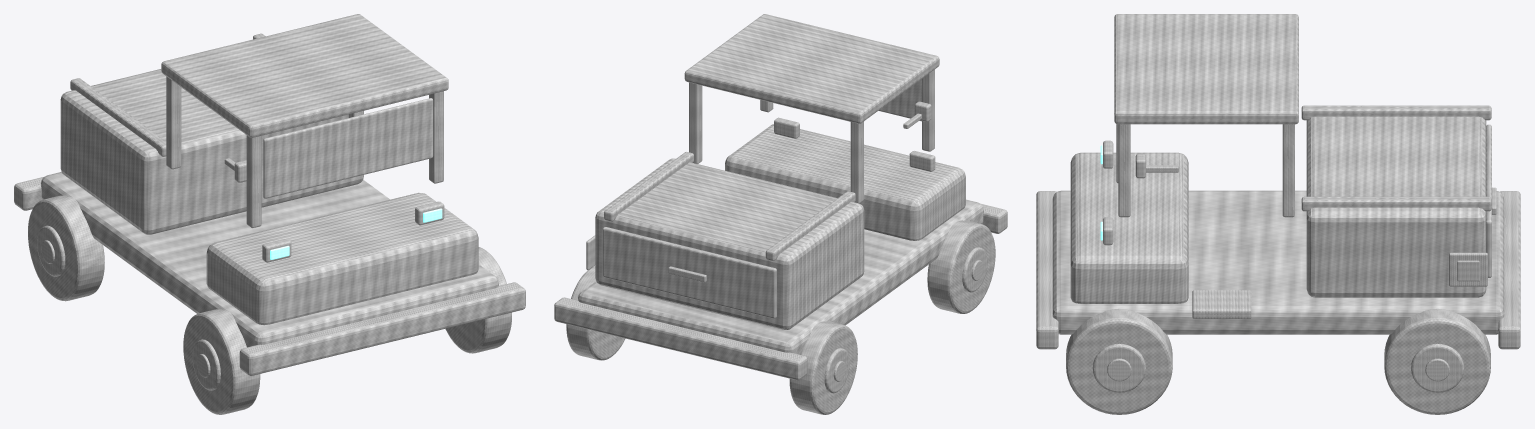
The model's file is tractor_variant_c.glb.
The picture shows the model from 3 angles, left to right: view 1: azimuth 30°, elevation 25°; view 2: azimuth 150°, elevation 25°; view 3: azimuth 270°, elevation 25°; orthographic projection. The views are drawn at different scales.
Parts seen in each view (by area): view 1: Lower engine cover.002, Rear cargo body.002, Cabin roof frame, Ladder chassis.002, Windshield panel, Front bumper.002, All-terrain tire.010, All-terrain tire.009, All-terrain tire.011, Cargo side rail.005, Cabin support post.001, Cabin support post.002 (+4 smaller); view 2: Rear cargo body.002, Cabin roof frame, Lower engine cover.002, Ladder chassis.002, Rear cargo hatch.002, Rear bumper.002, All-terrain tire.009, All-terrain tire.010, All-terrain tire.012, Cargo side rail.005, Cargo side rail.006, Cabin support post.002 (+8 smaller); view 3: Rear cargo body.002, Ladder chassis.002, Cabin roof frame, Lower engine cover.002, All-terrain tire.011, All-terrain tire.012, Front bumper.002, Rear bumper.002, Cargo side rail.005, Cargo side rail.006, Side step.002, Wheel hub.010 (+8 smaller).
Boxes of the visible parts, x1,y1,x2,y2 form: Lower engine cover.002: (206,192,478,325); Rear cargo body.002: (60,69,363,234); Cabin roof frame: (161,14,448,137); Ladder chassis.002: (41,172,498,347); Windshield panel: (263,98,433,198); Front bumper.002: (239,282,525,375); All-terrain tire.010: (28,195,104,301); All-terrain tire.009: (183,309,260,414); All-terrain tire.011: (445,247,511,353); Cargo side rail.005: (70,78,166,156); Cabin support post.001: (246,135,261,227); Cabin support post.002: (166,76,181,169); Rear cargo body.002: (595,158,864,329); Cabin roof frame: (684,14,939,123); Lower engine cover.002: (725,124,965,240); Ladder chassis.002: (578,199,983,354); Rear cargo hatch.002: (602,227,776,318); Rear bumper.002: (554,297,807,380); All-terrain tire.009: (927,220,995,313); All-terrain tire.010: (789,321,857,414); All-terrain tire.012: (566,266,625,360); Cargo side rail.005: (765,191,855,260); Cargo side rail.006: (604,152,693,221); Cabin support post.002: (850,121,863,203); Rear cargo body.002: (1306,116,1486,297); Ladder chassis.002: (1052,190,1504,334); Cabin roof frame: (1114,14,1298,124); Lower engine cover.002: (1070,152,1188,303); All-terrain tire.011: (1066,308,1172,414); All-terrain tire.012: (1384,308,1490,414); Front bumper.002: (1036,191,1058,349); Rear bumper.002: (1498,191,1520,349); Cargo side rail.005: (1301,105,1491,120); Cargo side rail.006: (1301,196,1491,211); Side step.002: (1192,290,1251,318); Wheel hub.010: (1092,343,1145,392).
Size of what is drawn, in the model's own units: 3.35 by 3.05 by 4.72.
Materials: 7 (7 with a texture image).
